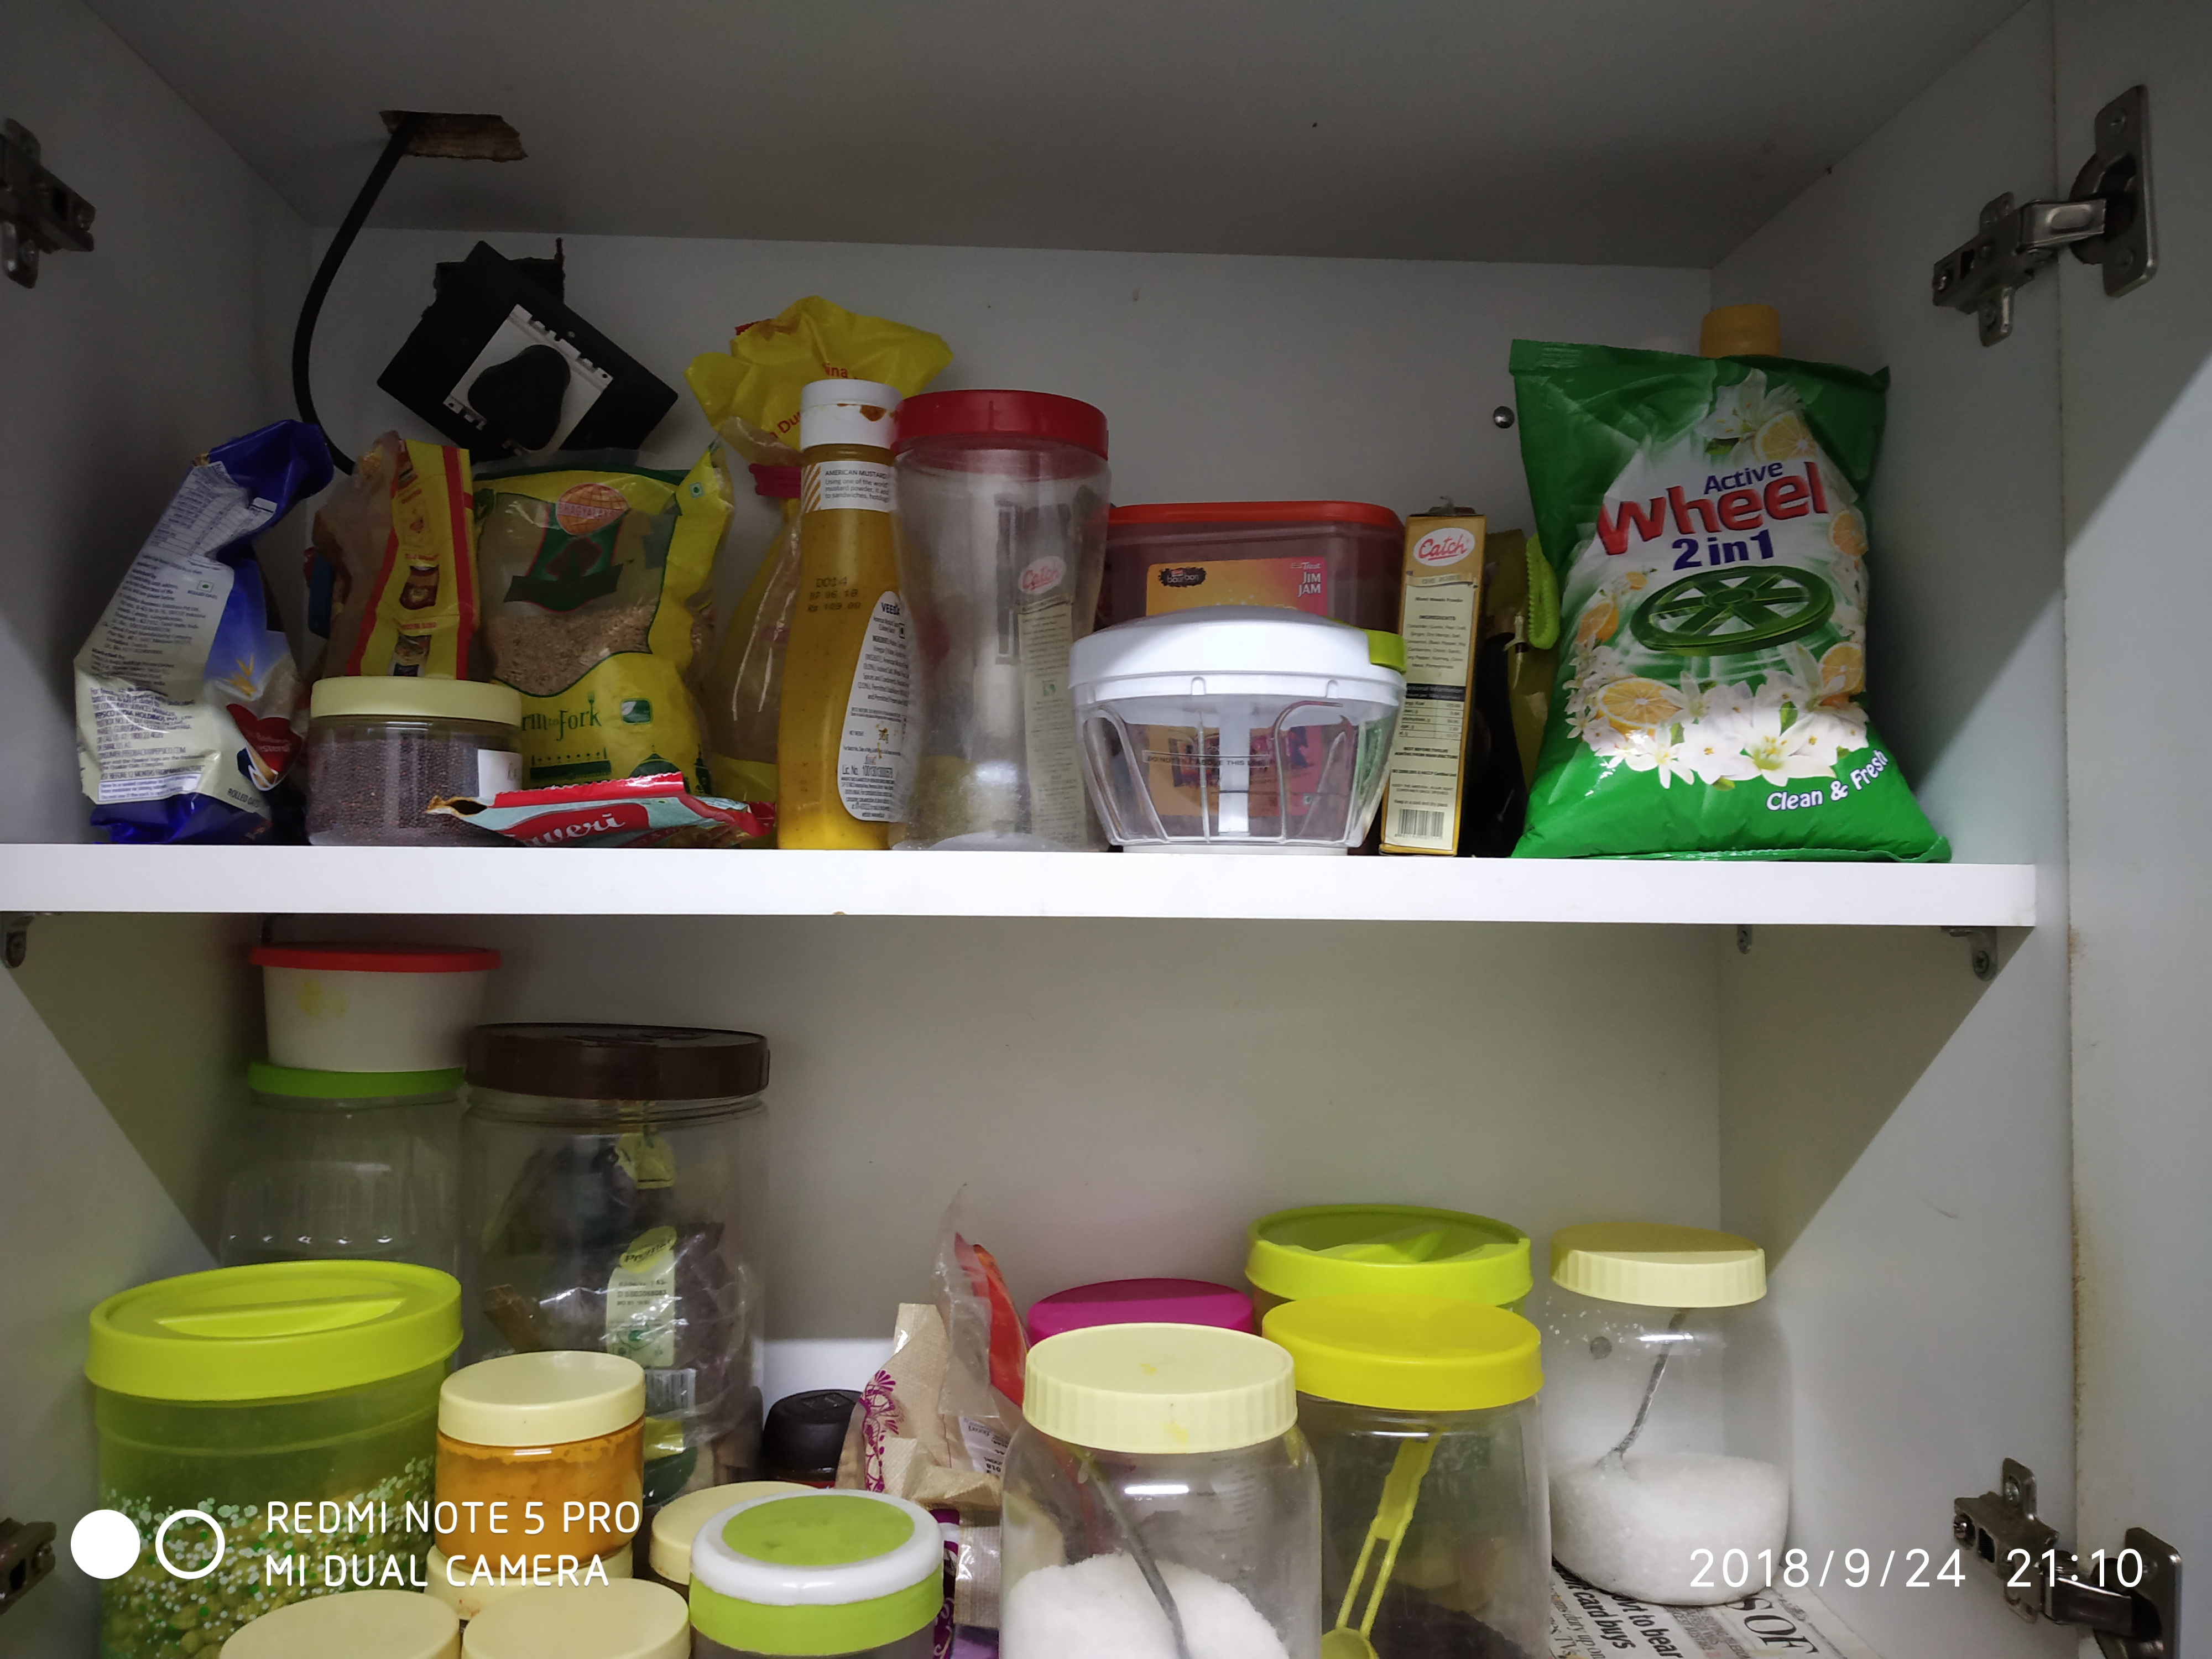detergent: (1524, 306, 1916, 881)
